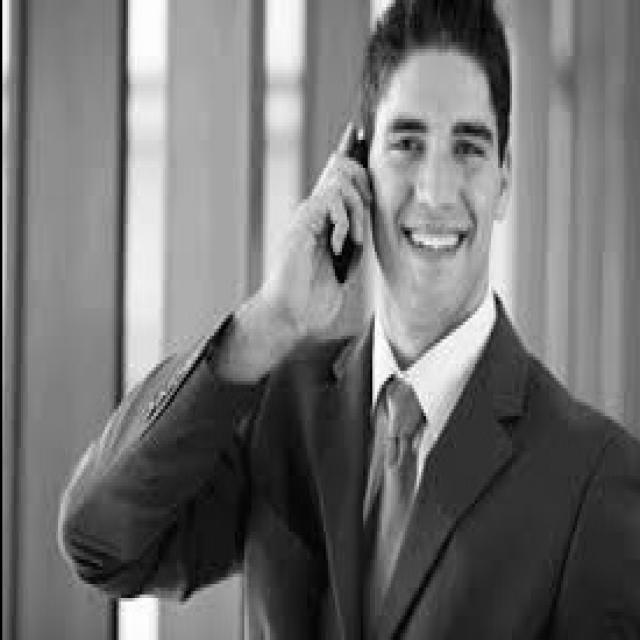phone: (279, 77, 438, 322)
